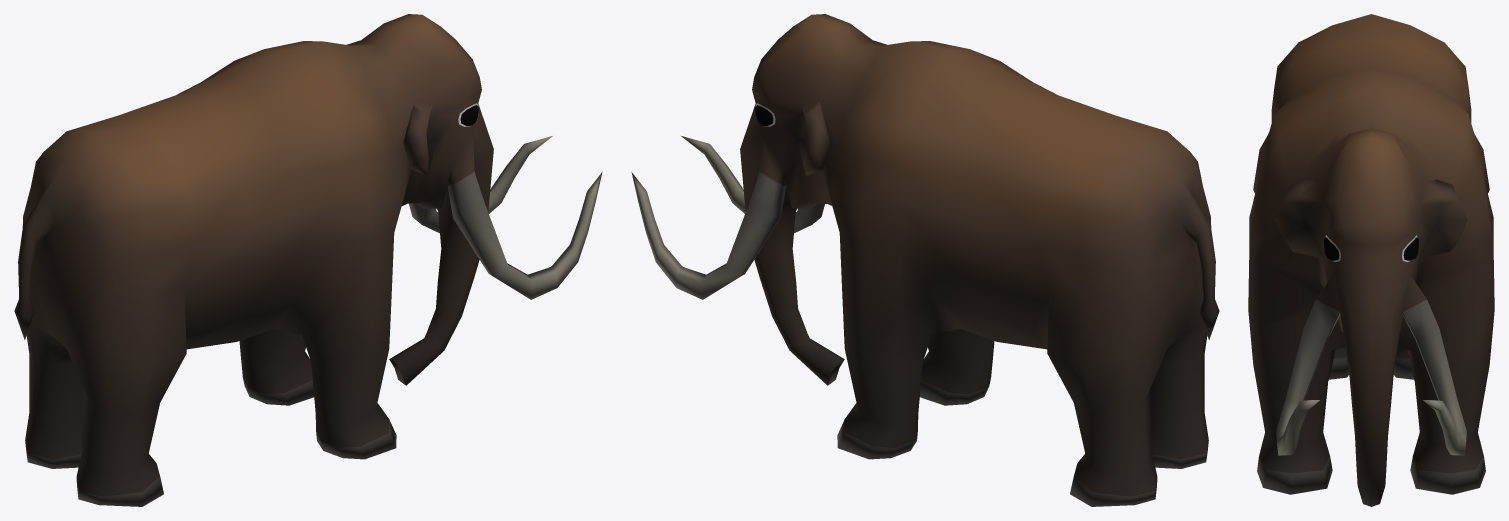
Rendered from elephant.glb.
3 renders of one model, left to right at view 1: azimuth 30°, elevation 25°; view 2: azimuth 150°, elevation 25°; view 3: azimuth 270°, elevation 25°, orthographic. The views are drawn at different scales.
Parts seen in each view (by area): view 1: base.388; view 2: base.388; view 3: base.388.
Part boxes in pixels (x1=…): base.388: x1=14, y1=14, x2=602, y2=506; base.388: x1=631, y1=14, x2=1219, y2=506; base.388: x1=1248, y1=14, x2=1494, y2=506.
Bounding box in the file's own units: 3.88 × 2.48 × 1.42.
